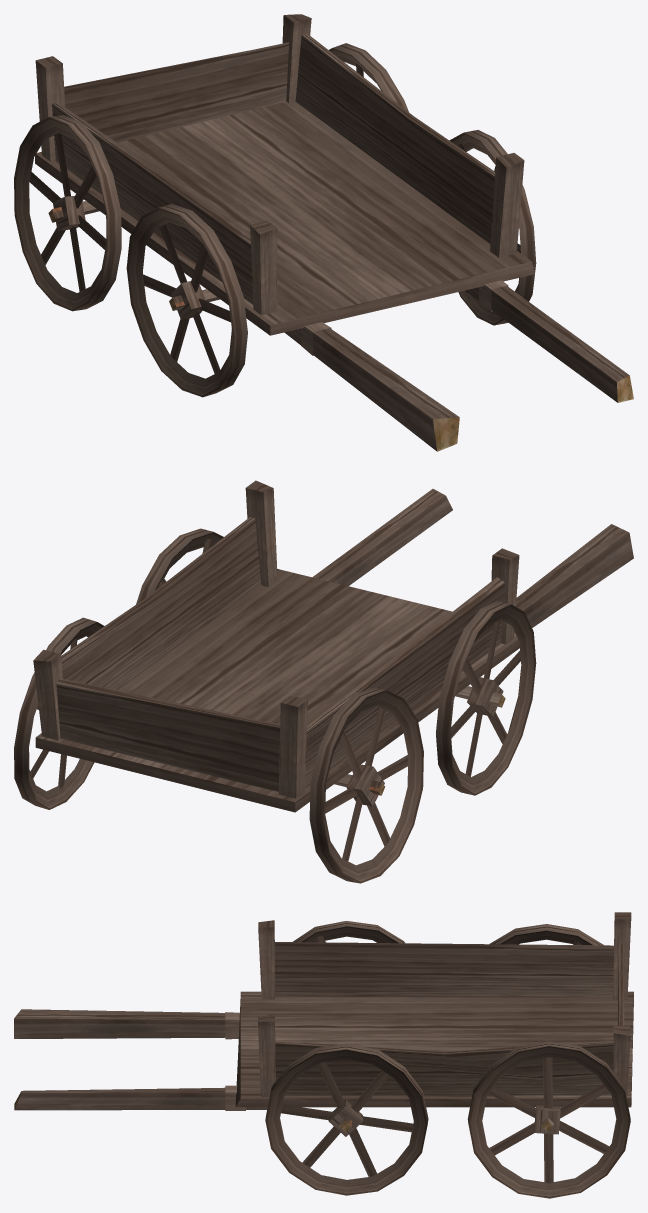
The model's file is handan_field_a_r07.fbx.
The picture shows the model from 3 angles, top to bottom: view 1: azimuth 30°, elevation 25°; view 2: azimuth 150°, elevation 25°; view 3: azimuth 270°, elevation 25°; orthographic projection. The views are drawn at different scales.
Visible parts, largest first — view 1: handan_field_a_r07; view 2: handan_field_a_r07; view 3: handan_field_a_r07.
Part boxes in pixels (x1=…): handan_field_a_r07: x1=14, y1=14, x2=633, y2=451; handan_field_a_r07: x1=14, y1=480, x2=633, y2=883; handan_field_a_r07: x1=14, y1=912, x2=633, y2=1198.
Bounding box in the file's own units: 238 × 137 × 462.
